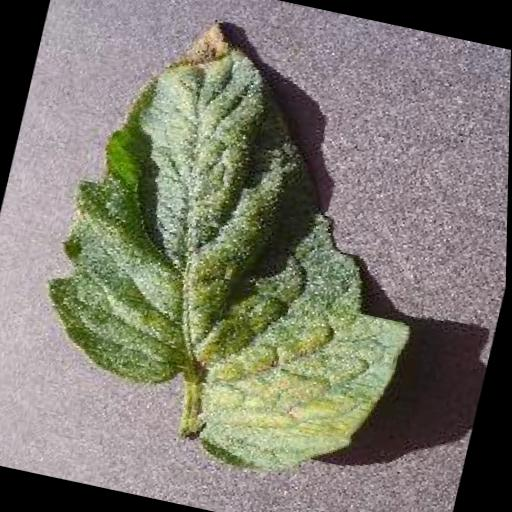Spider Mites: (15, 0, 471, 498)
